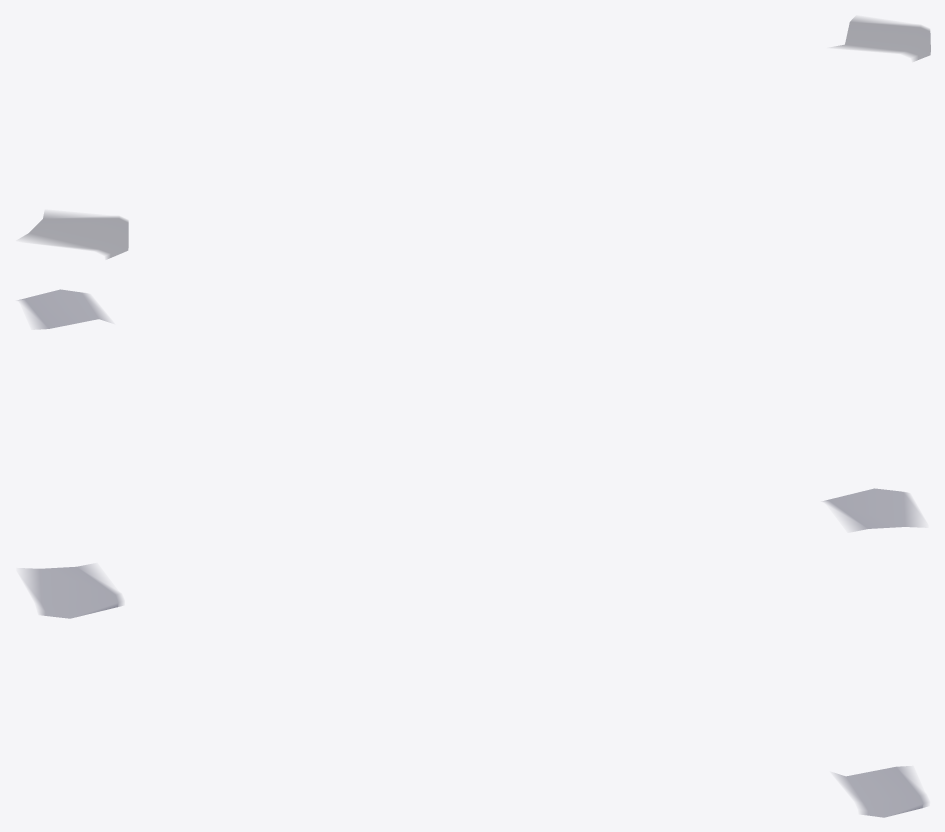
The picture shows the model from 3 angles, top to bottom: view 1: azimuth 30°, elevation 25°; view 2: azimuth 150°, elevation 25°; view 3: azimuth 330°, elevation 25°; orthographic projection.
Visible parts, largest first — view 1: Joint_0_Object_1, Joint_0_Object_0; view 2: Joint_0_Object_1, Joint_0_Object_0; view 3: Joint_0_Object_1, Joint_0_Object_0.
Boxes of the visible parts, x1,y1,x2,y2 form: Joint_0_Object_1: [22, 213, 128, 258]; Joint_0_Object_0: [836, 18, 930, 60]; Joint_0_Object_1: [824, 488, 919, 530]; Joint_0_Object_0: [19, 289, 108, 328]; Joint_0_Object_1: [25, 565, 122, 618]; Joint_0_Object_0: [836, 766, 927, 817].
Size of the model in its own units: 1489 by 12.76 by 172.
Materials: 1 (1 with a texture image).
